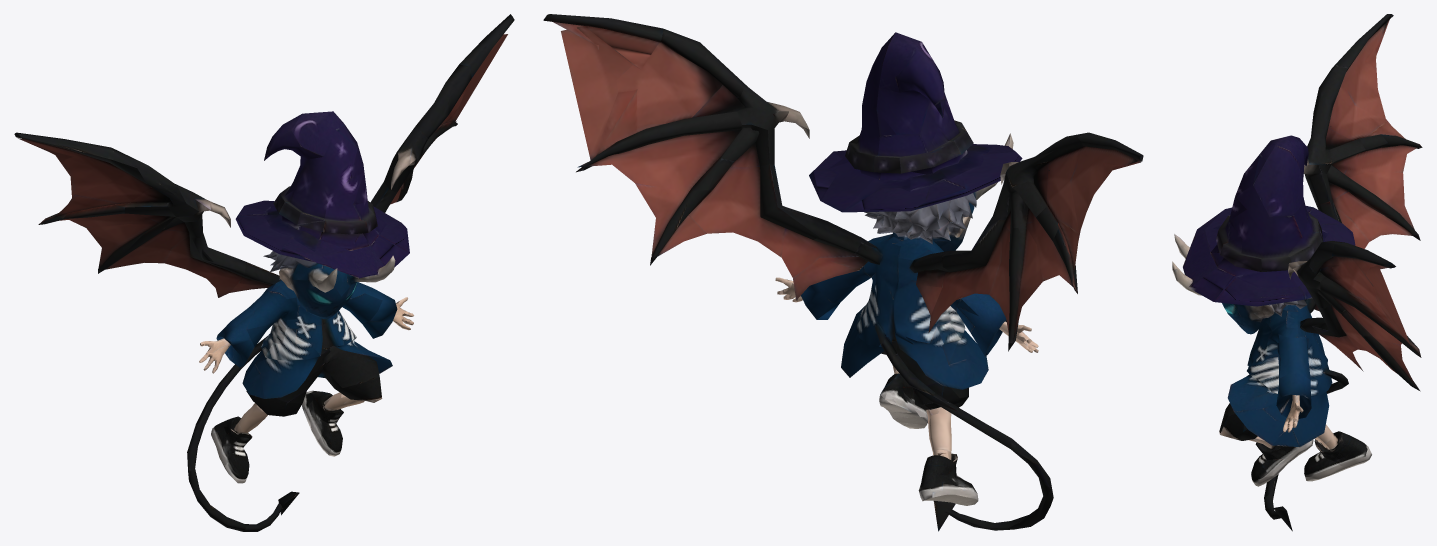
Rendered from dragon_fap.glb.
3 views of the same model, side by side, from view 1: azimuth 30°, elevation 25°; view 2: azimuth 150°, elevation 25°; view 3: azimuth 270°, elevation 25° (orthographic). The views are drawn at different scales.
Parts seen in each view (by area): view 1: mesh_node; view 2: mesh_node; view 3: mesh_node.
Part boxes in pixels (x1,y1,x2,y2): mesh_node: [14, 14, 514, 531]; mesh_node: [543, 14, 1143, 531]; mesh_node: [1172, 14, 1422, 531].
Bounding box in the file's own units: 1 × 0.7715 × 0.4268.
1 material, 1 textured.
